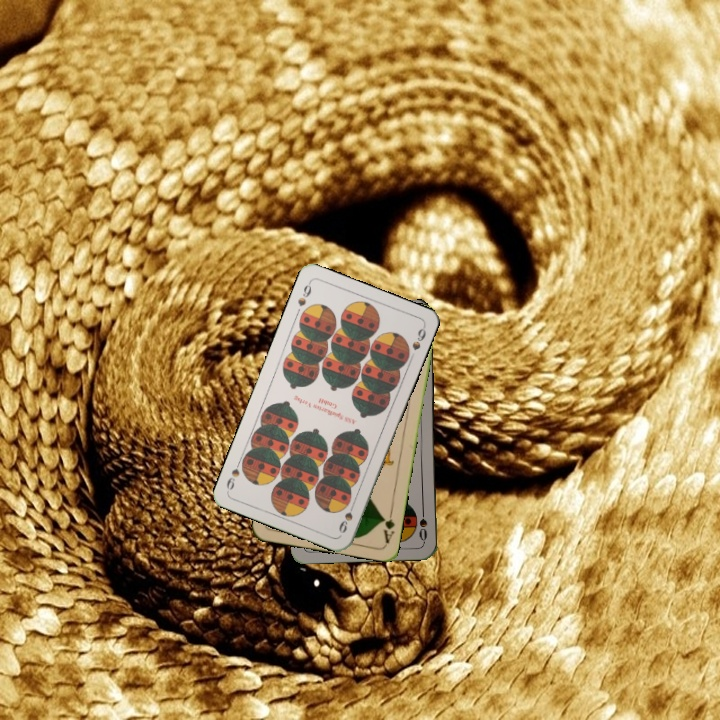GA: (379, 505, 397, 546)
S9: (335, 498, 358, 536), (294, 278, 314, 309)
SO: (415, 503, 430, 543)
